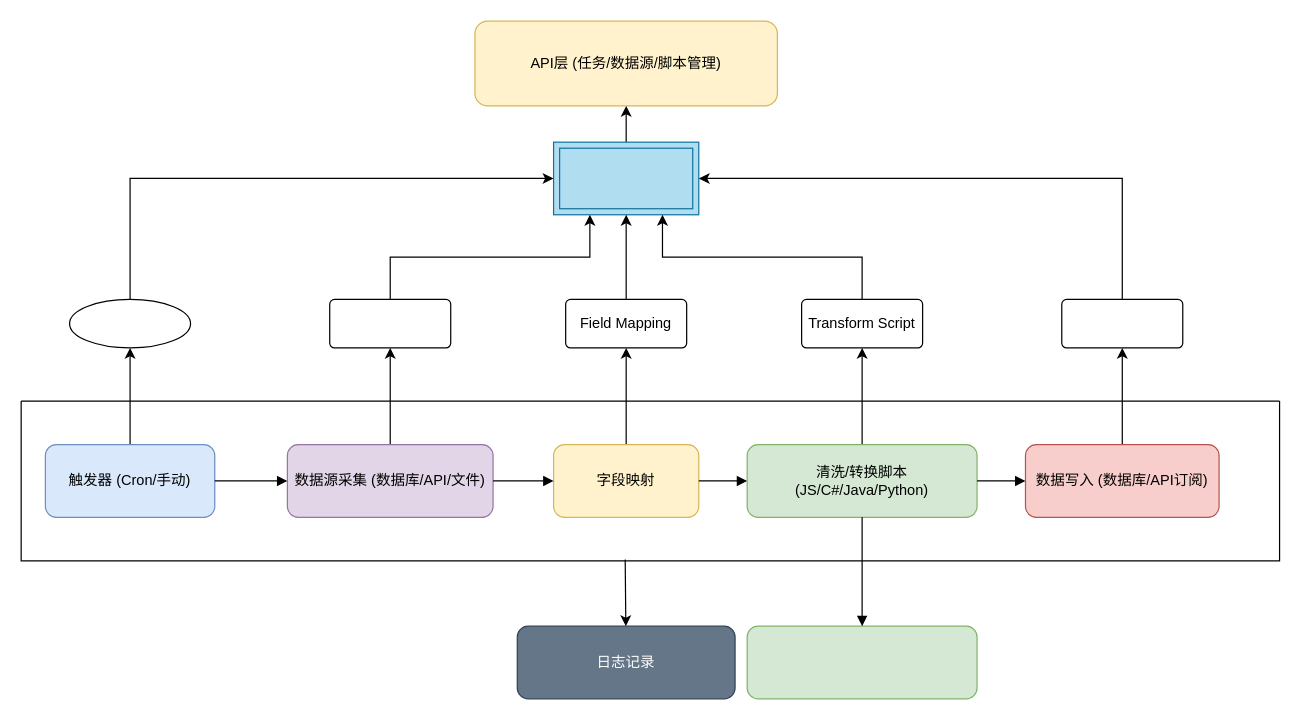
Image size: 1301x720. Some labels were removed from this diagram. The box of each missing label's shape, as (x1, y1, x2, y2) in pixels:
Data Source: (329, 298, 451, 348)
ETLJob: (552, 141, 699, 215)
Schedule Cron: (68, 298, 191, 348)
Target Sink: (1061, 298, 1183, 348)
脚本执行引擎 (Roslyn/JS/Java): (746, 625, 977, 699)
